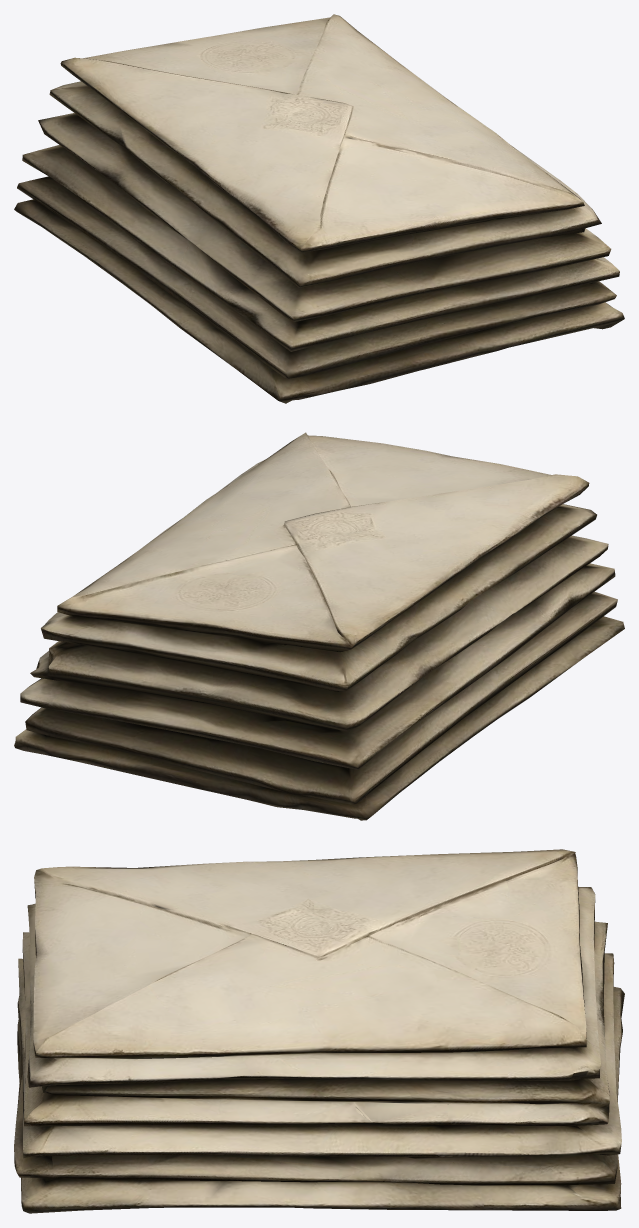
The model's file is envelope_stack.glb.
The picture shows the model from 3 angles, top to bottom: view 1: azimuth 30°, elevation 25°; view 2: azimuth 150°, elevation 25°; view 3: azimuth 270°, elevation 25°; orthographic projection. The views are drawn at different scales.
Visible parts, largest first — view 1: tripo_node_18fa3c6b-138e-4bc0-87bf-cb6953d9af82; view 2: tripo_node_18fa3c6b-138e-4bc0-87bf-cb6953d9af82; view 3: tripo_node_18fa3c6b-138e-4bc0-87bf-cb6953d9af82.
Part boxes in pixels (x1=…): tripo_node_18fa3c6b-138e-4bc0-87bf-cb6953d9af82: x1=14, y1=14, x2=624, y2=403; tripo_node_18fa3c6b-138e-4bc0-87bf-cb6953d9af82: x1=14, y1=432, x2=624, y2=820; tripo_node_18fa3c6b-138e-4bc0-87bf-cb6953d9af82: x1=14, y1=849, x2=624, y2=1213.
Bounding box in the file's own units: 0.7657 × 0.3603 × 1.
1 material, 1 textured.
